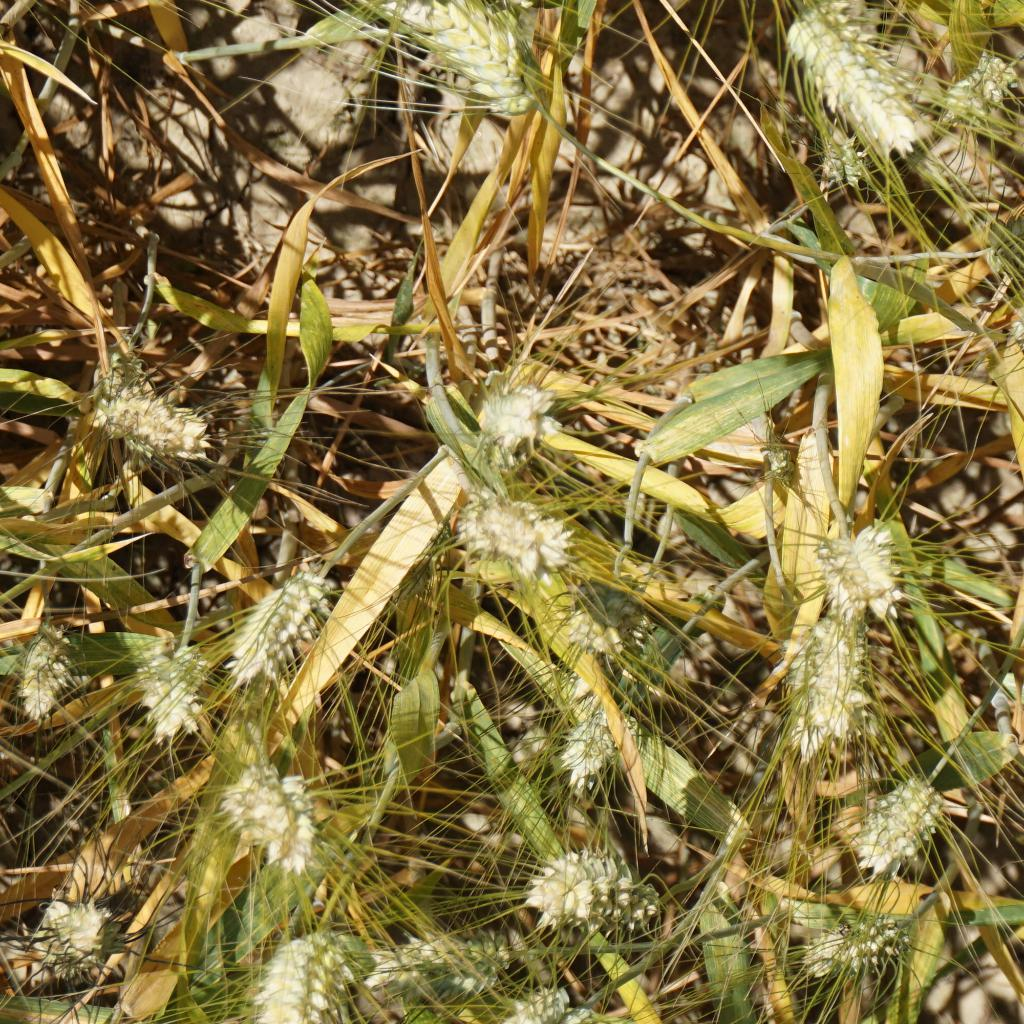0-0: (399, 0, 559, 130), (793, 0, 925, 147), (212, 570, 340, 707), (525, 832, 665, 943), (779, 606, 879, 760), (854, 757, 959, 880), (814, 510, 922, 629), (370, 919, 502, 1008), (458, 490, 579, 584), (222, 758, 334, 858), (92, 381, 220, 468), (549, 685, 626, 813), (384, 497, 464, 612), (561, 565, 653, 661), (807, 900, 911, 984), (33, 878, 123, 974), (135, 632, 212, 738), (474, 370, 561, 454), (273, 915, 340, 1024), (2, 624, 76, 710), (487, 977, 622, 1024), (806, 117, 883, 196), (86, 329, 163, 407), (953, 53, 1021, 120), (757, 428, 809, 504), (1008, 285, 1024, 364)
